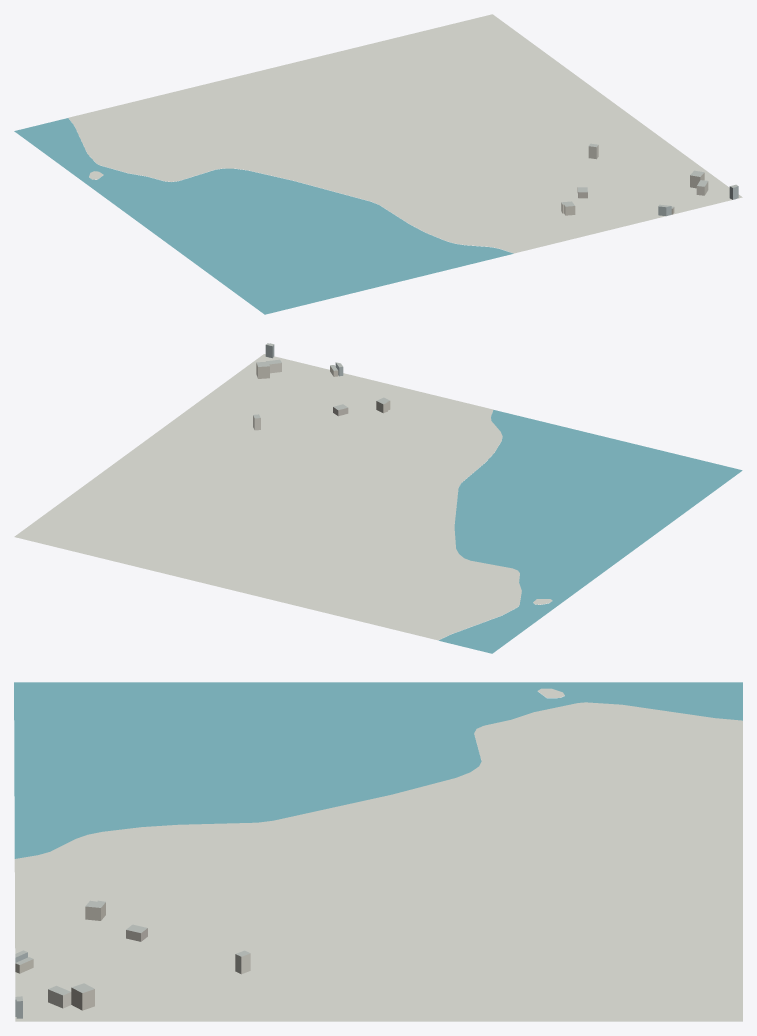
3 views of the same model, one above another, from view 1: azimuth 30°, elevation 25°; view 2: azimuth 150°, elevation 25°; view 3: azimuth 270°, elevation 25° (orthographic). The views are drawn at different scales.
Parts seen in each view (by area): view 1: city; view 2: city; view 3: city.
Part boxes in pixels (x1=…): city: x1=14, y1=14, x2=742, y2=314; city: x1=14, y1=343, x2=742, y2=653; city: x1=14, y1=682, x2=742, y2=1021.
Bounding box in the file's own units: 500 × 12.18 × 454.
